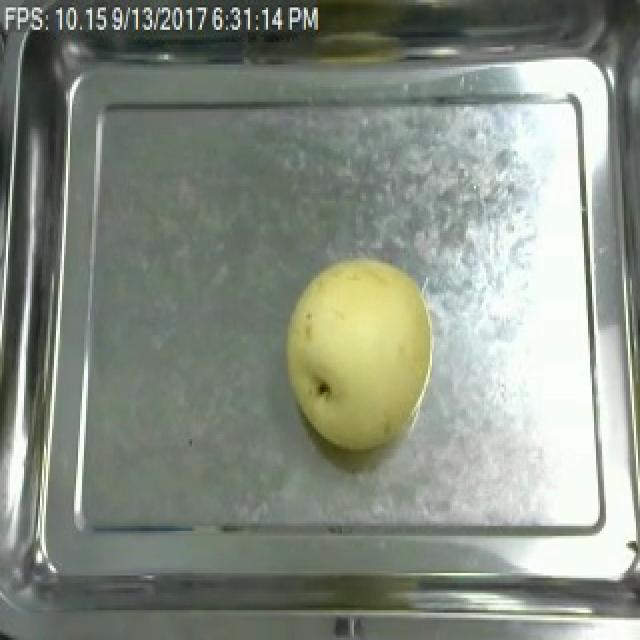Fruit: (276, 246, 442, 457)
